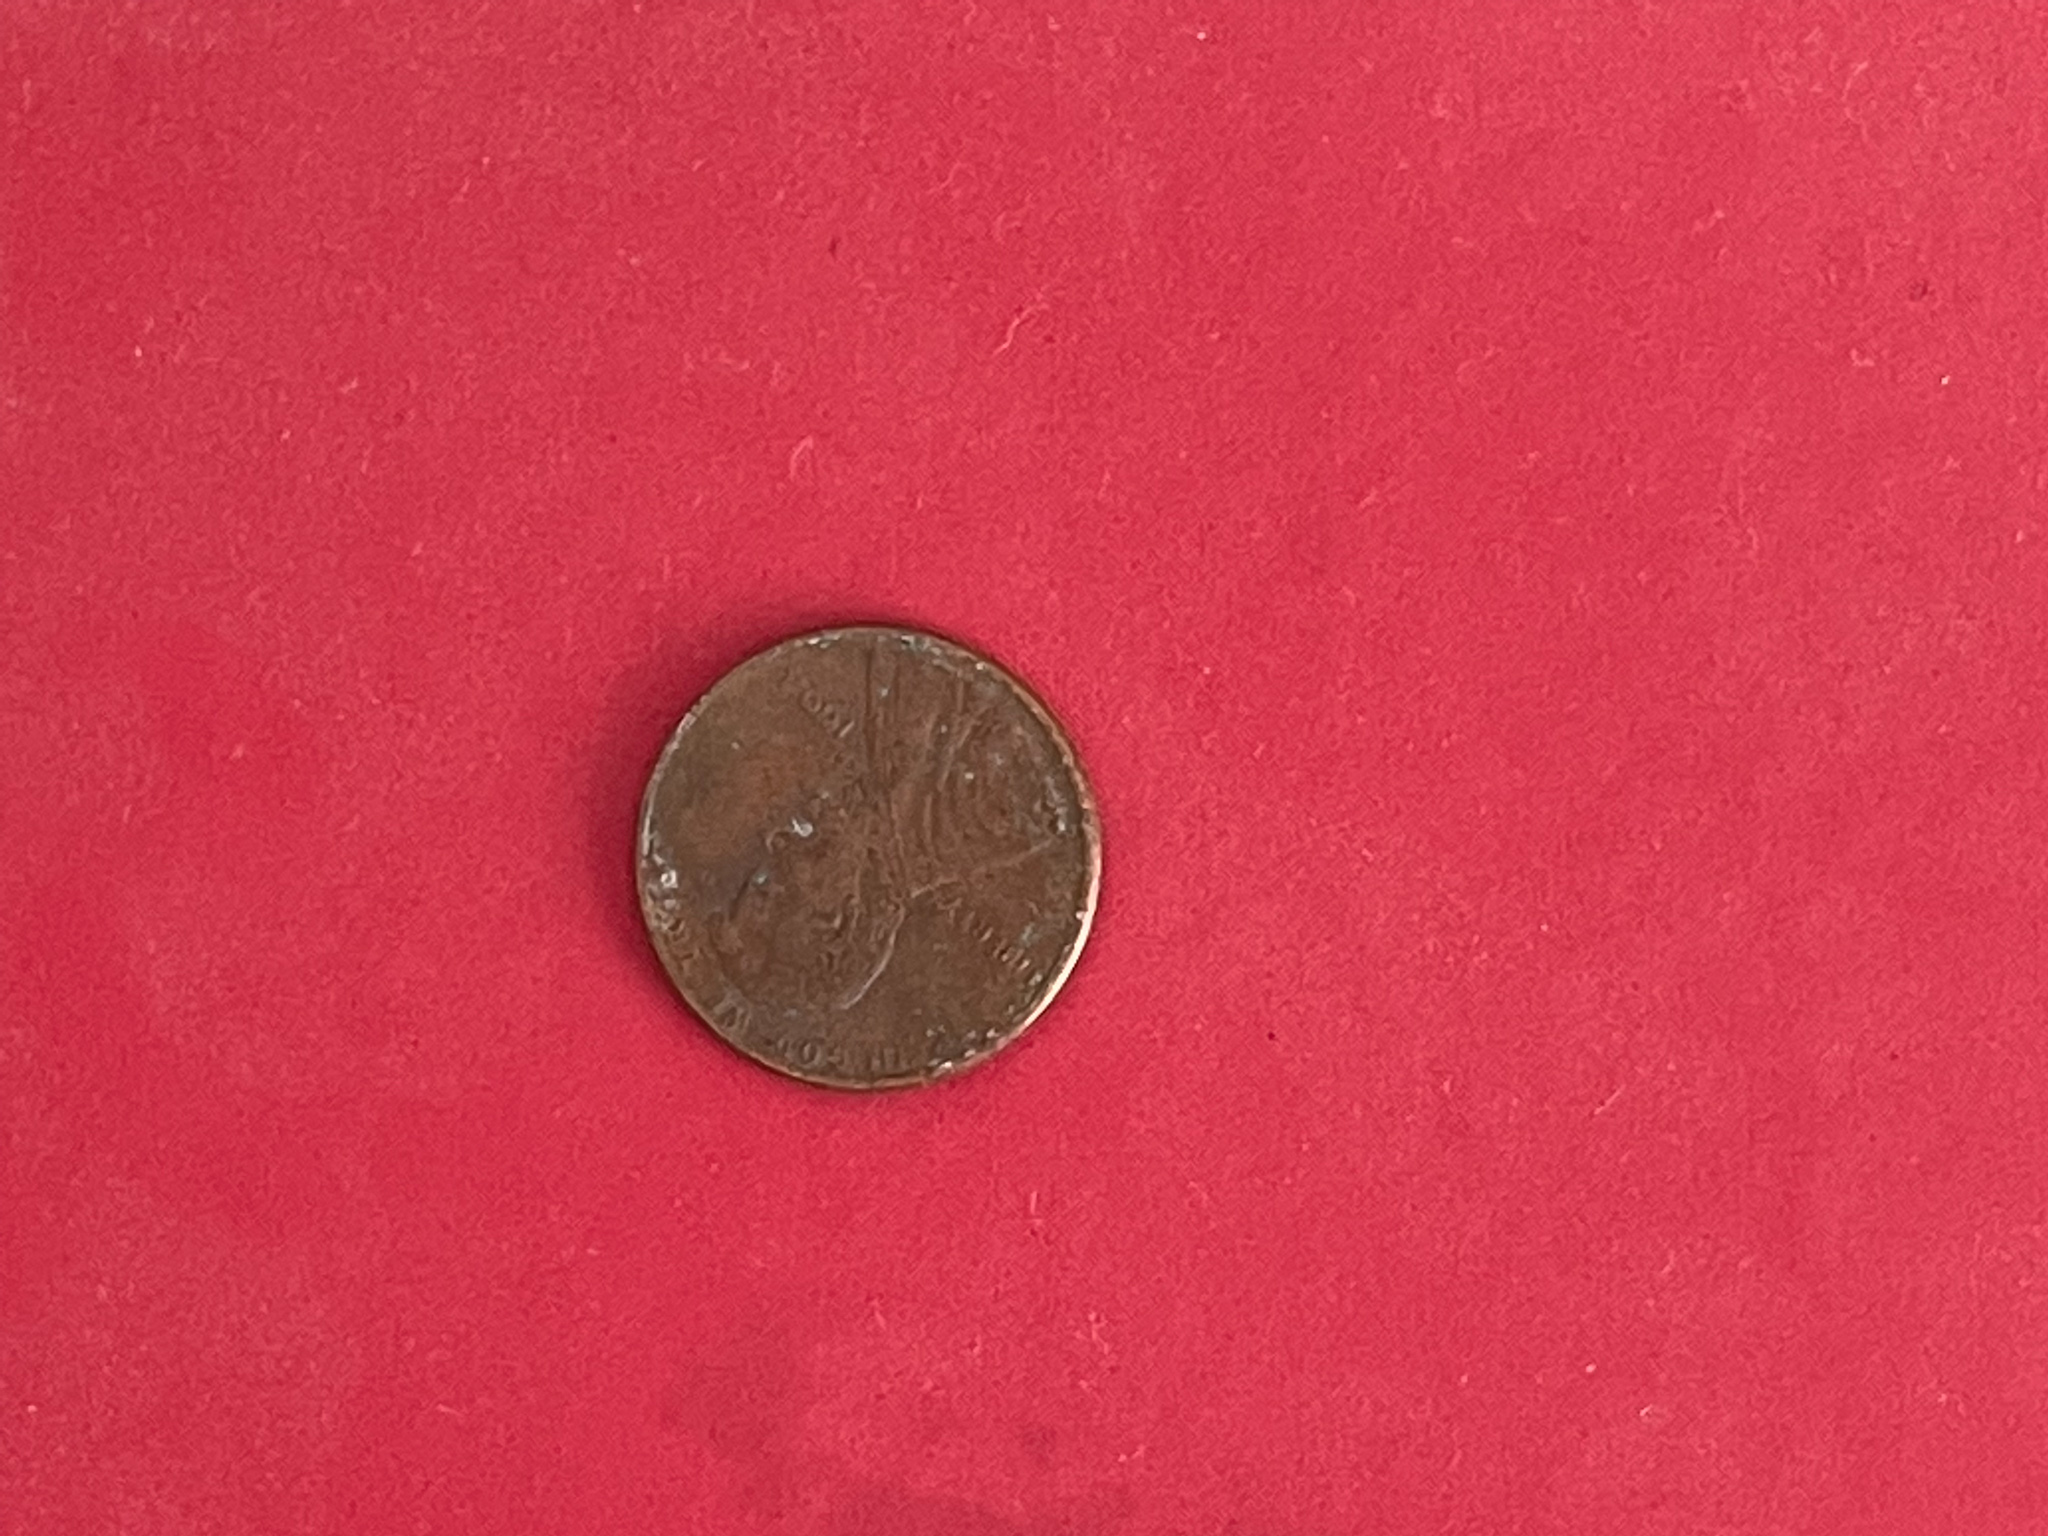penny: (631, 616, 1113, 1096)
